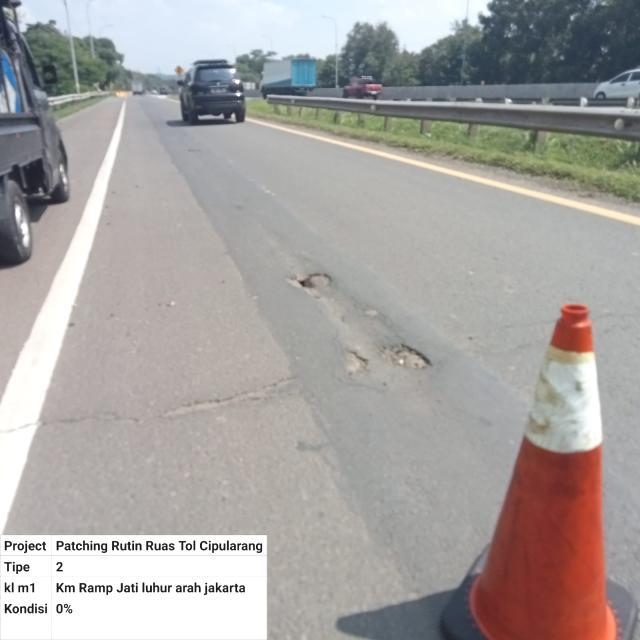Buraco: (377, 342, 434, 372), (281, 270, 335, 301), (341, 347, 371, 378)
